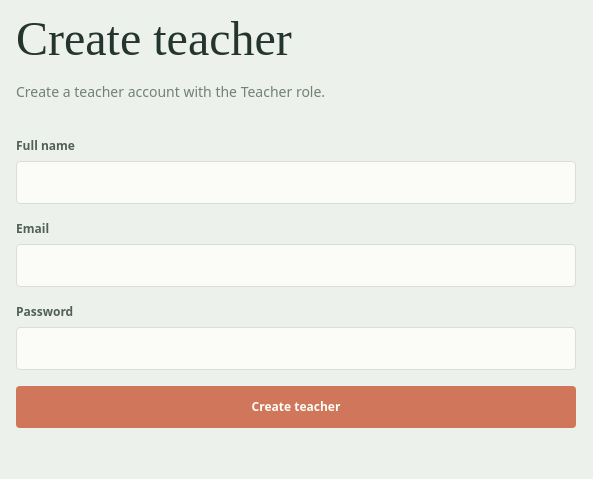
Test: CreateTeacherPage › creates a teacher with trimmed name and email
Type "  Ravi Kumar  " into the field labelled "Full name" at {"x": 296, "y": 182}, box [16,161,576,204]
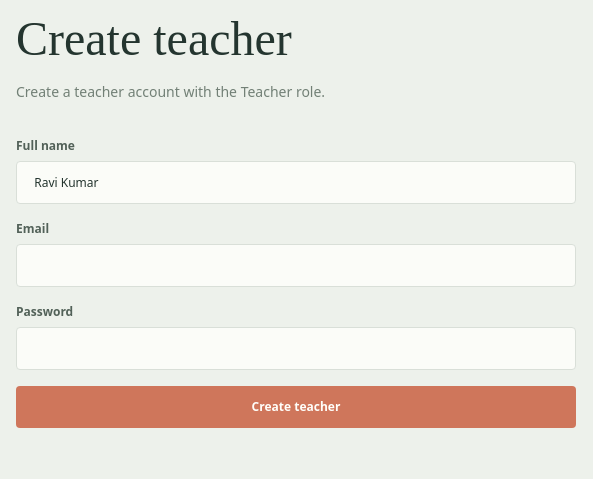
Type "  ravi@example.com  " into the field labelled "Email" at {"x": 296, "y": 265}, box [16,244,576,287]
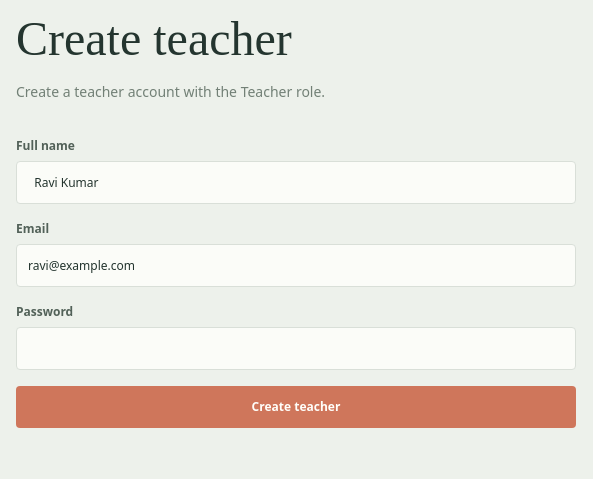
Type "password123" into the password field labelled "Password" at {"x": 296, "y": 348}, box [16,327,576,370]
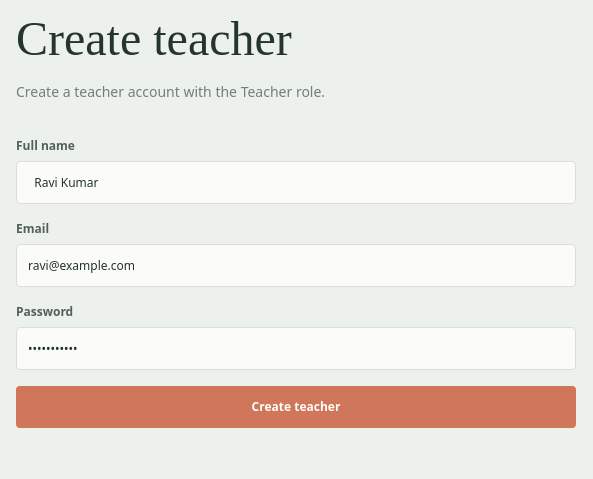
Click the button "Create teacher" at {"x": 296, "y": 407}, box [16,386,576,428]
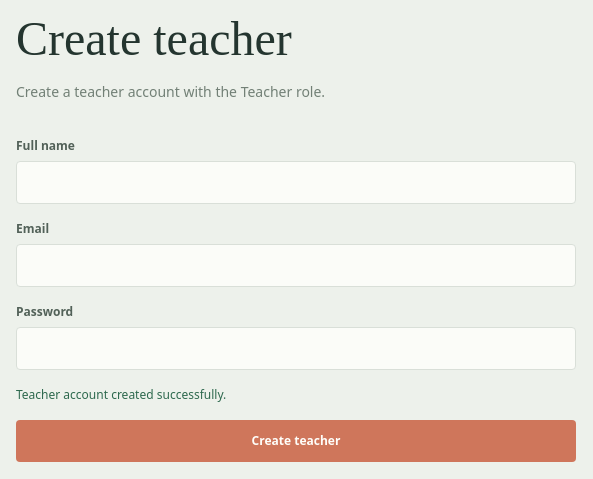
Expected: the message reads "Teacher account created successfully.", [16,386,226,403]
Expected: the field labelled "Full name" is empty, [16,161,576,204]
Expected: the field labelled "Email" is empty, [16,244,576,287]
